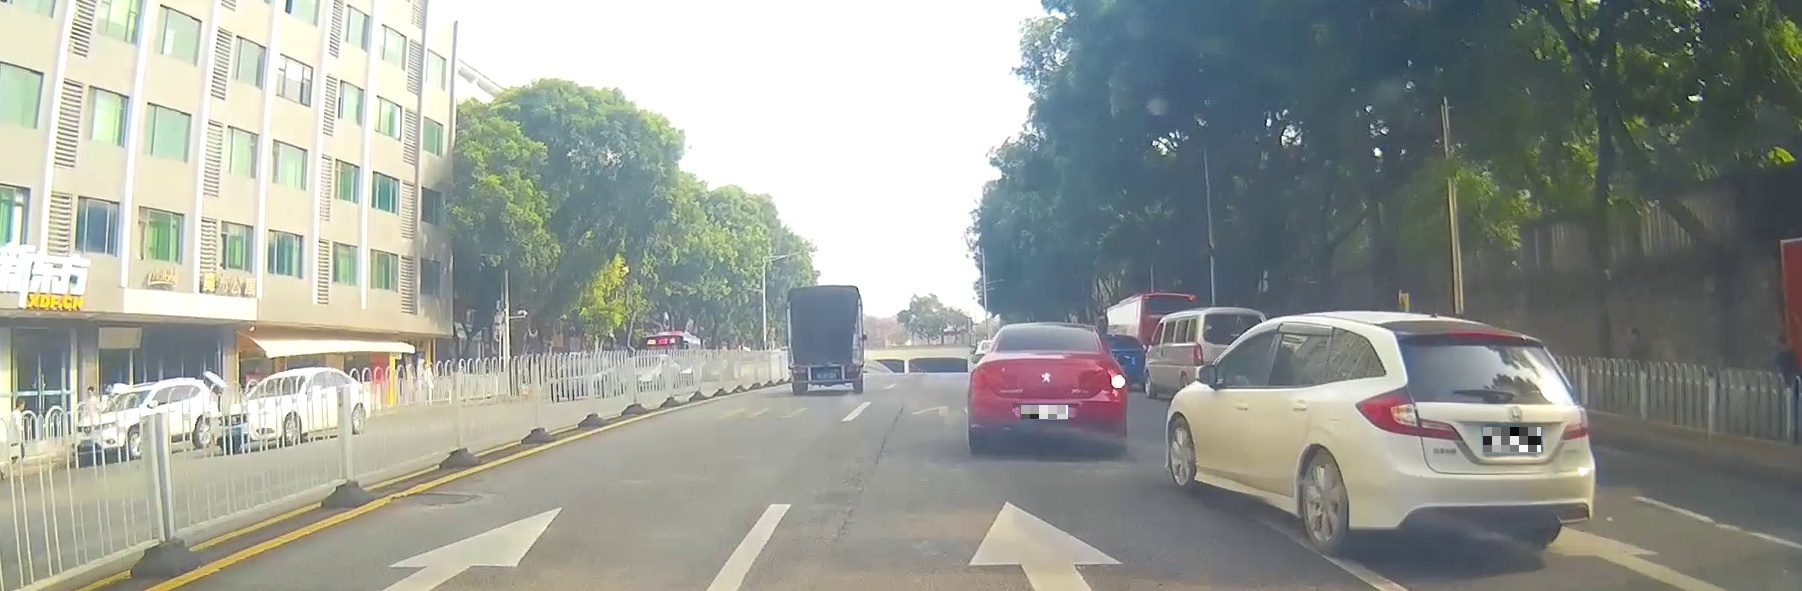L_light: (1354, 384, 1462, 442), (971, 373, 984, 386), (793, 367, 804, 373)
R_light: (1561, 406, 1589, 439), (1111, 374, 1126, 387), (846, 366, 858, 373)
T_light: (1448, 329, 1514, 339), (1042, 327, 1058, 330), (818, 290, 830, 292)
day-no: (1351, 327, 1596, 557), (786, 285, 864, 396)
day-right: (967, 324, 1127, 452)
plate_1: (1021, 405, 1068, 419)
plate_2: (1483, 427, 1541, 452)
